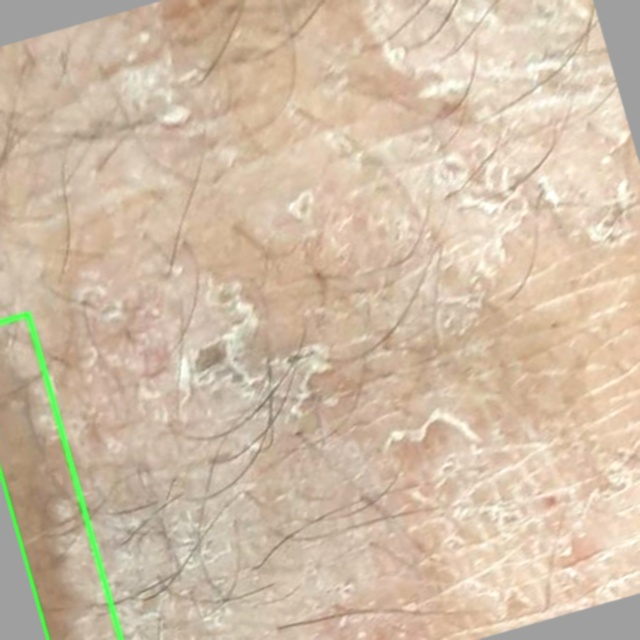Tinea Corporis: (0, 314, 121, 639)
